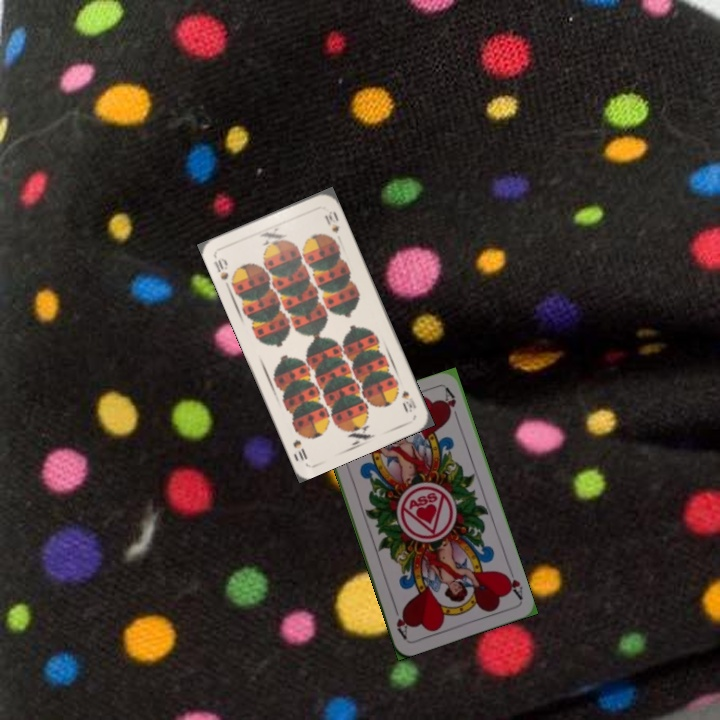HA: (499, 563, 525, 603)
S10: (209, 254, 238, 289), (397, 386, 419, 415)
